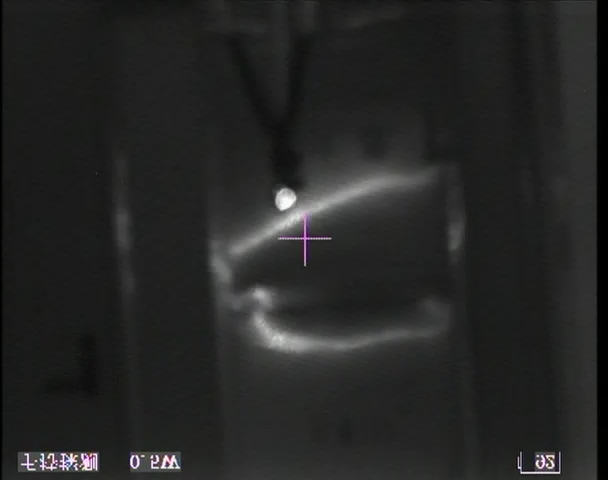my: (274, 186, 298, 213)
